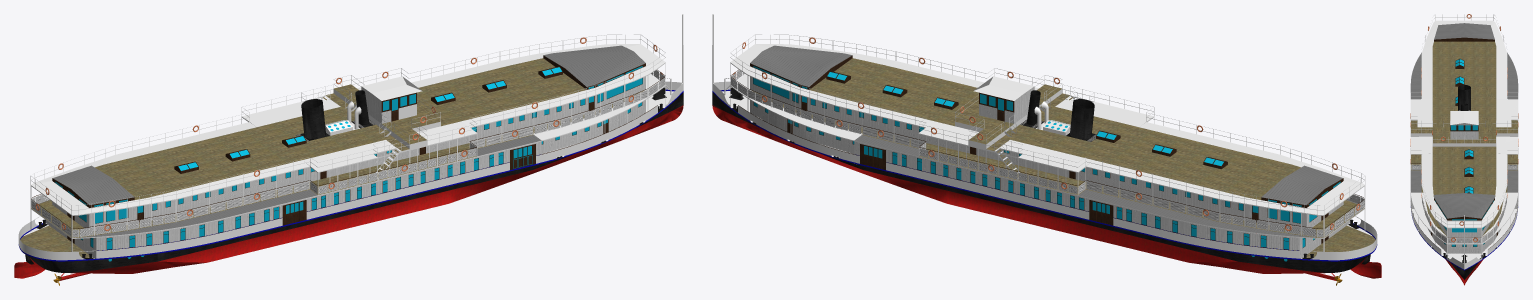
Rendered from Parom_2.fbx.
3 views of the same model, side by side, from view 1: azimuth 30°, elevation 25°; view 2: azimuth 150°, elevation 25°; view 3: azimuth 270°, elevation 25° (orthographic). The views are drawn at different scales.
Parts seen in each view (by area): view 1: Parom_2; view 2: Parom_2; view 3: Parom_2.
Part boxes in pixels (<box>): Parom_2: <box>14,14,683,285</box>; Parom_2: <box>712,14,1381,285</box>; Parom_2: <box>1410,14,1518,285</box>.
Size of the model in its own units: 81.06 by 12.72 by 16.18.
